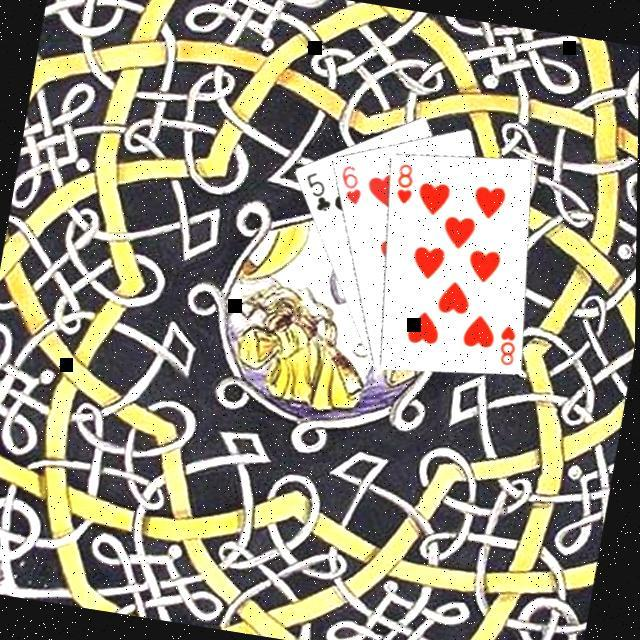5C: (299, 170, 342, 219)
6H: (335, 163, 371, 211)
8H: (392, 162, 423, 211), (495, 322, 526, 371)
